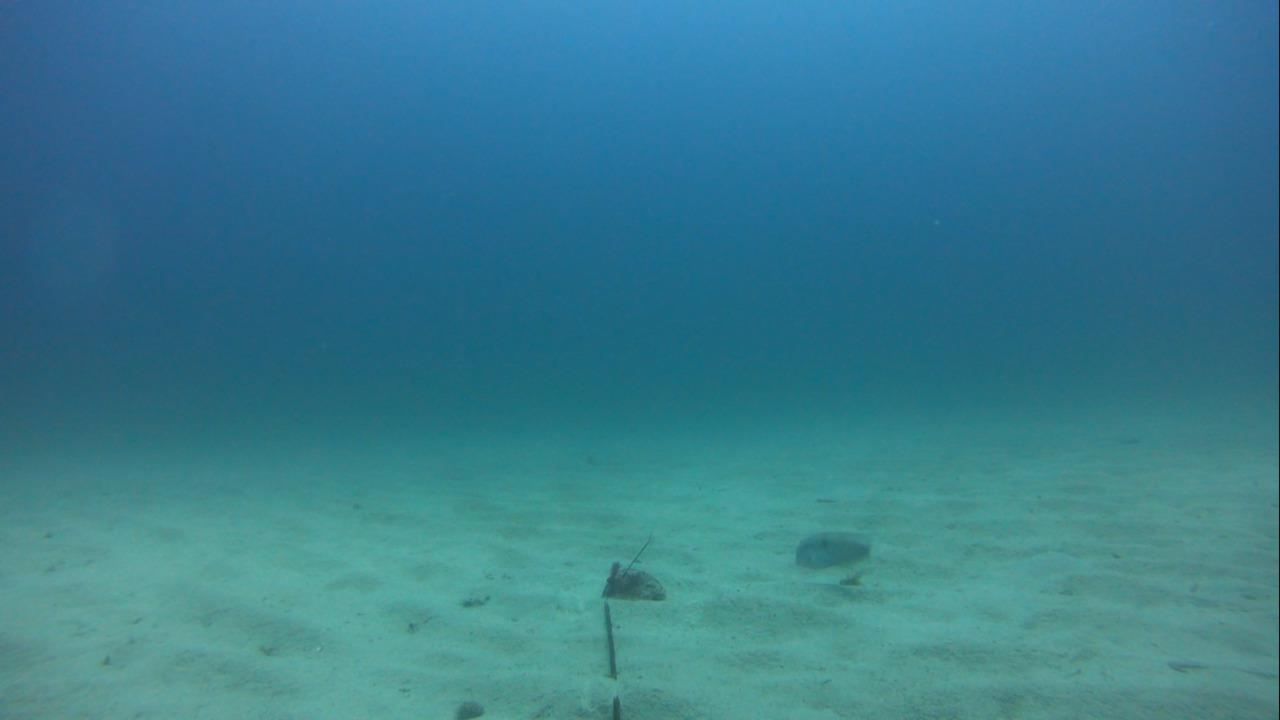raor: (788, 525, 882, 576)
